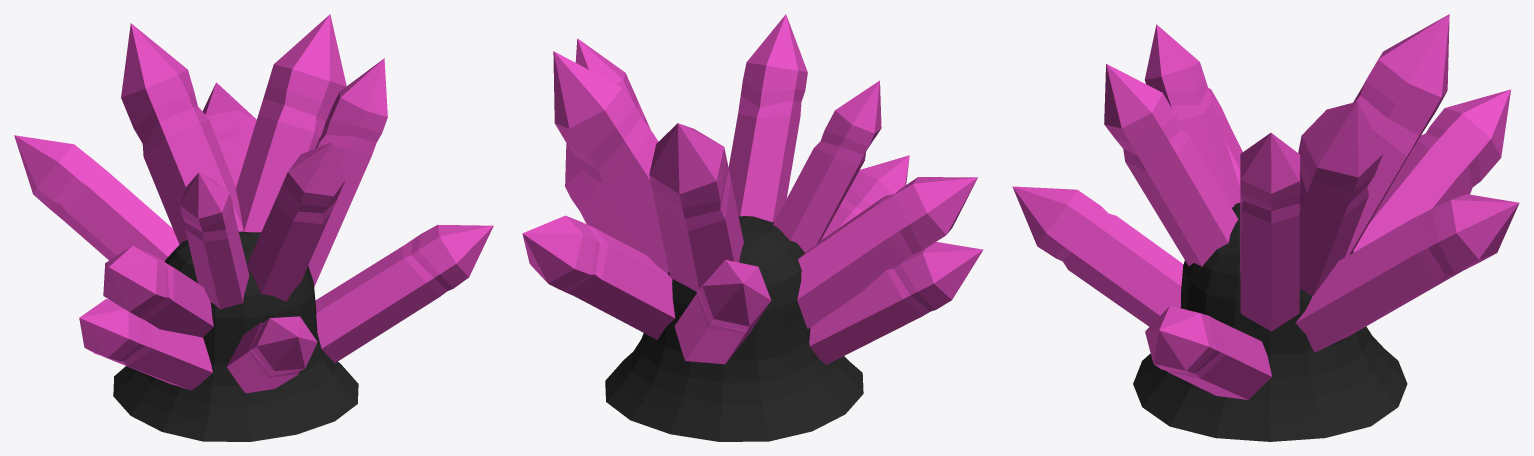
The model's file is Mineral.glb.
3 views of the same model, side by side, from view 1: azimuth 30°, elevation 25°; view 2: azimuth 150°, elevation 25°; view 3: azimuth 270°, elevation 25° (orthographic). The views are drawn at different scales.
Visible parts, largest first — view 1: Mineral; view 2: Mineral; view 3: Mineral.
Boxes of the visible parts, box(x1,y1,x2,y2) form: Mineral: box(14, 14, 493, 441); Mineral: box(522, 14, 983, 441); Mineral: box(1012, 14, 1519, 441).
Bounding box in the file's own units: 0.5876 × 0.4367 × 0.5644.
